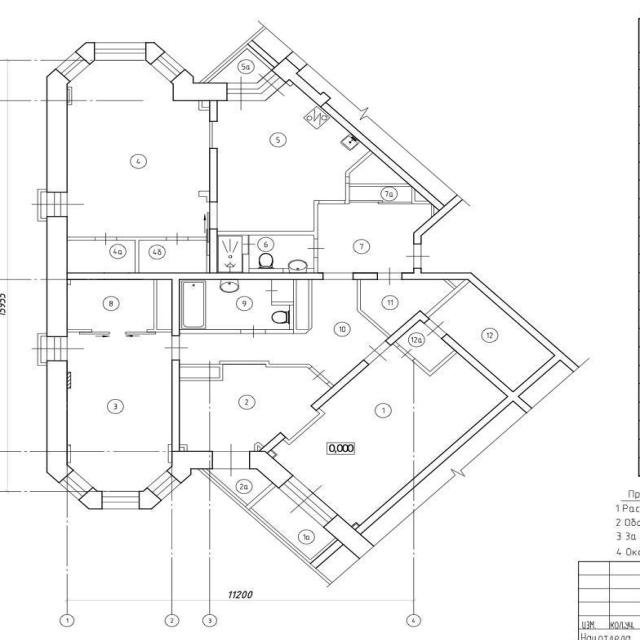Bathrooms: (179, 280, 290, 329), (249, 235, 314, 272), (219, 236, 242, 271)
Corridors: (180, 280, 388, 385), (429, 282, 554, 391), (318, 202, 430, 272), (251, 487, 335, 559), (361, 280, 454, 336), (68, 281, 154, 329), (397, 322, 453, 371), (519, 361, 573, 408), (208, 469, 272, 504), (139, 241, 207, 272), (68, 241, 135, 272), (210, 50, 271, 82), (350, 153, 407, 183), (318, 544, 359, 581), (253, 29, 292, 61), (349, 187, 412, 201), (272, 280, 294, 302), (415, 190, 429, 201), (41, 192, 46, 218), (42, 336, 46, 362), (450, 280, 465, 286), (435, 207, 439, 214)
Doors: (280, 475, 339, 527), (227, 70, 288, 112), (212, 443, 250, 478), (31, 192, 86, 216), (32, 337, 85, 361), (363, 340, 392, 365), (405, 244, 431, 268), (207, 202, 218, 256), (165, 336, 189, 360), (424, 318, 448, 340), (79, 329, 156, 335), (378, 267, 402, 286), (309, 366, 330, 385), (240, 324, 266, 339), (307, 239, 327, 258), (95, 231, 117, 246), (397, 345, 416, 362), (166, 232, 189, 246), (349, 200, 412, 205), (266, 279, 278, 302), (242, 235, 255, 254), (323, 272, 352, 280), (319, 200, 345, 204), (346, 177, 350, 183)
LBwalls: (311, 268, 580, 569), (248, 40, 463, 244), (67, 272, 323, 336), (166, 360, 214, 483), (46, 360, 74, 483), (310, 359, 370, 411), (46, 68, 71, 192), (169, 69, 227, 122), (46, 216, 68, 337), (249, 432, 294, 490), (385, 310, 430, 346), (79, 486, 102, 510), (139, 488, 162, 510), (209, 147, 218, 202), (145, 42, 165, 66), (75, 42, 95, 65), (210, 229, 219, 272), (352, 272, 378, 280), (67, 444, 71, 463), (67, 371, 71, 388), (168, 444, 171, 463)
Offices: (273, 345, 507, 525), (67, 61, 209, 237), (361, 402, 526, 545), (213, 83, 370, 231), (67, 332, 172, 491), (180, 365, 330, 451)
Walls: (197, 469, 338, 585), (198, 26, 274, 83), (217, 200, 319, 239), (179, 360, 312, 381), (265, 280, 312, 334), (357, 280, 391, 338), (425, 279, 470, 318), (116, 237, 166, 272), (283, 408, 325, 445), (345, 183, 412, 204), (147, 280, 172, 332), (412, 350, 457, 377), (345, 151, 373, 177), (37, 332, 47, 366), (412, 187, 431, 204), (37, 189, 47, 221), (180, 329, 240, 334), (242, 254, 249, 272), (198, 192, 209, 203), (209, 122, 213, 148), (254, 441, 264, 451), (198, 101, 209, 110), (67, 87, 72, 105), (68, 237, 94, 240), (67, 329, 92, 332), (269, 450, 278, 458), (188, 237, 207, 240), (180, 444, 188, 451), (352, 522, 359, 530), (314, 258, 318, 272), (327, 382, 334, 388), (431, 204, 434, 217), (393, 342, 399, 348), (207, 256, 209, 272), (67, 280, 71, 285)
Windows: (59, 470, 93, 501), (147, 470, 181, 501), (56, 52, 90, 81), (151, 52, 185, 81), (95, 42, 146, 61), (101, 491, 139, 510)
